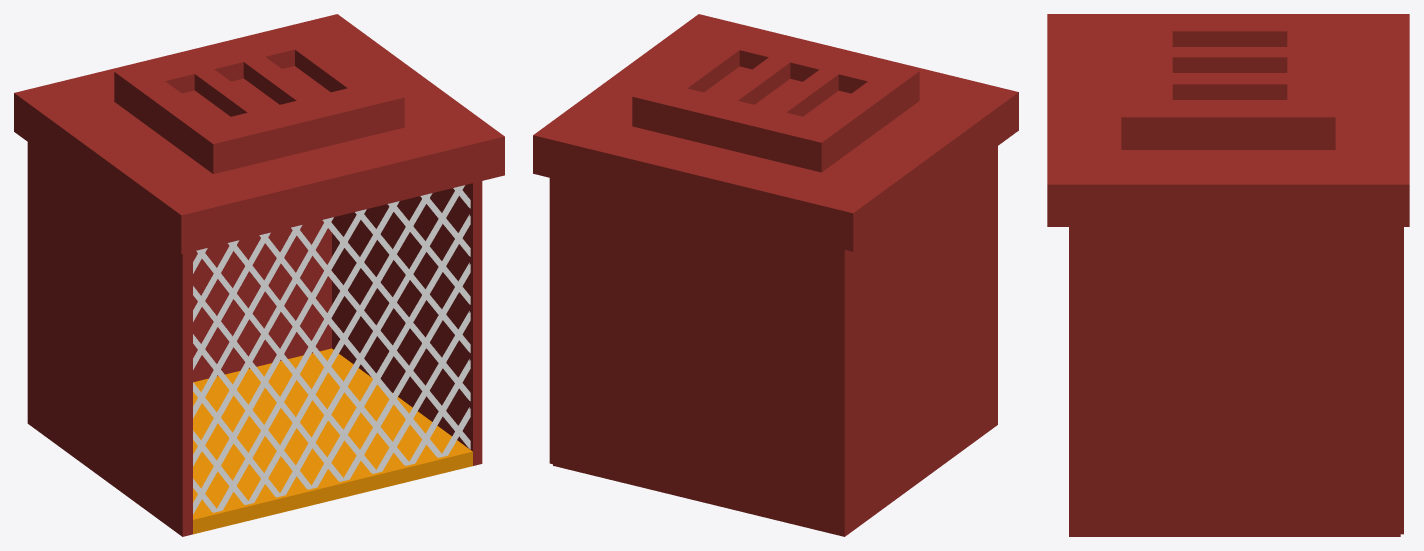
File: telerport_6.fbx
The picture shows the model from 3 angles, left to right: view 1: azimuth 30°, elevation 25°; view 2: azimuth 150°, elevation 25°; view 3: azimuth 270°, elevation 25°; orthographic projection. The views are drawn at different scales.
Parts seen in each view (by area): view 1: polySurface3, telerport_6, polySurface2; view 2: polySurface3; view 3: polySurface3.
Part boxes in pixels (bbox=[...]): polySurface3: bbox=[14, 14, 504, 536]; telerport_6: bbox=[193, 185, 470, 514]; polySurface2: bbox=[193, 348, 472, 534]; polySurface3: bbox=[533, 14, 1018, 536]; polySurface3: bbox=[1047, 14, 1409, 536].
Size of the model in its own units: 3.13 by 3.34 by 2.81.
Materials: 2 (2 with a texture image).
